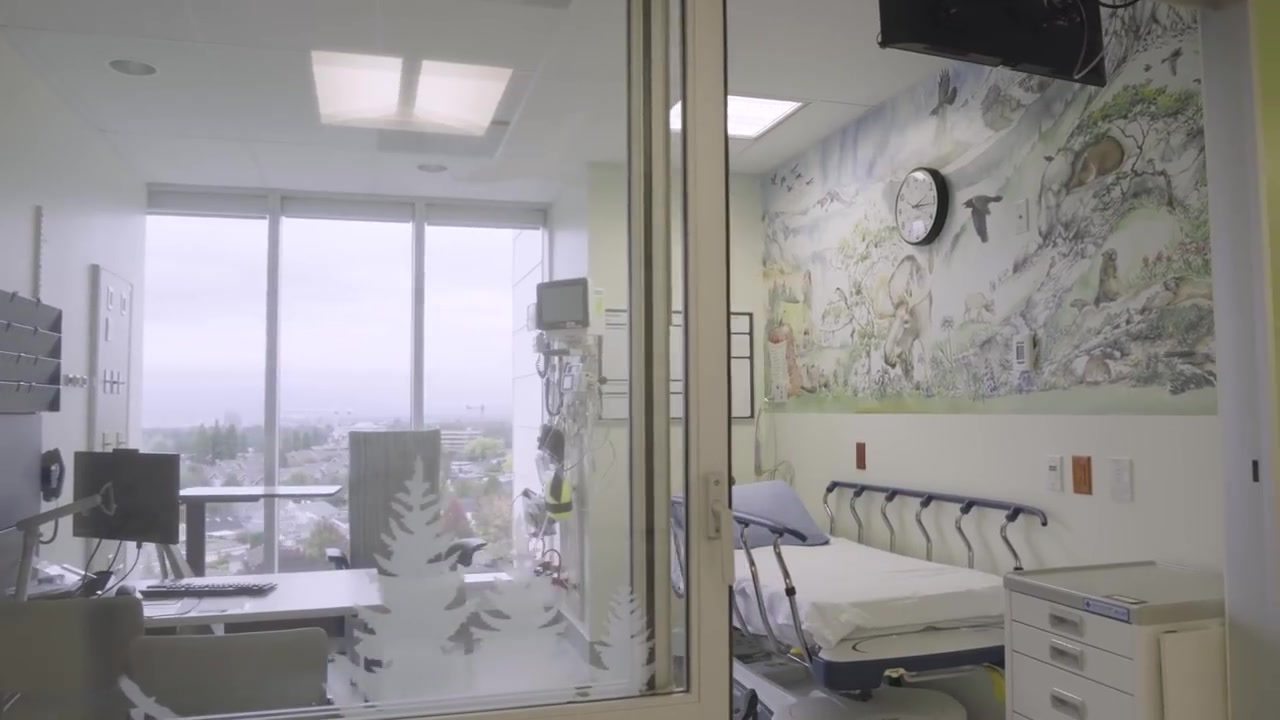bedrail: (671, 496, 806, 665), (822, 480, 1050, 575)
bedside_monitor: (874, 1, 1107, 88), (536, 281, 589, 332)
chair: (326, 431, 488, 671), (1, 596, 146, 720), (130, 627, 329, 706)
computer: (71, 446, 181, 548)
door_handle: (704, 470, 742, 593)
exam_table: (666, 479, 1044, 719)
keyboard: (146, 578, 278, 597)
medical_drawer: (1002, 560, 1225, 720)
mouse: (115, 583, 137, 596)
overbed_table: (180, 485, 342, 576)
table: (103, 567, 383, 720)
telephone: (42, 447, 66, 501)
